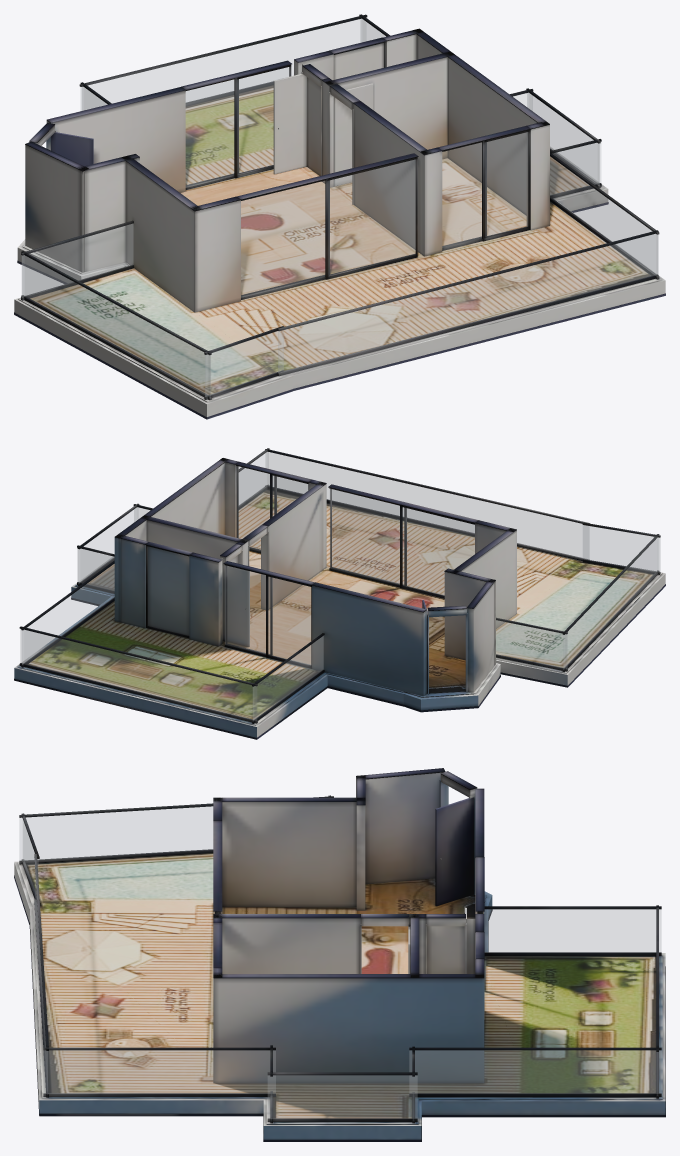
3 renders of one model, top to bottom at view 1: azimuth 30°, elevation 25°; view 2: azimuth 150°, elevation 25°; view 3: azimuth 270°, elevation 25°, orthographic. The views are drawn at different scales.
Parts seen in each view (by area): view 1: plan, glass0_m, railg10_m, glass2_m, glass1_m, railg0_m, railg9_m, railg7_m, railg5_m, railg8_m, railg3_m, railg2_m; view 2: plan, glass0_m, railg10_m, railg0_m, glass2_m, glass3_m, railg9_m, railg4_m, glass1_m, railg8_m, railg7_m, railg6_m (+3 smaller); view 3: plan, railg4_m, railg5_m, railg9_m, railg6_m, railg3_m.
Part boxes in pixels (x1,y1,x2,y2): plan: (14, 14, 665, 419); glass0_m: (241, 160, 415, 296); railg10_m: (278, 234, 657, 372); glass2_m: (186, 67, 288, 186); glass1_m: (442, 132, 527, 247); railg0_m: (80, 19, 365, 110); railg9_m: (22, 255, 210, 397); railg7_m: (22, 224, 133, 296); railg5_m: (550, 157, 658, 275); railg8_m: (205, 330, 283, 396); railg3_m: (527, 93, 599, 185); railg2_m: (550, 143, 600, 195); plan: (14, 448, 665, 739); glass0_m: (330, 489, 474, 595); railg10_m: (266, 452, 588, 559); railg0_m: (20, 629, 256, 720); glass2_m: (225, 565, 310, 664); glass3_m: (148, 547, 188, 634); railg9_m: (563, 538, 657, 669); railg4_m: (22, 564, 114, 664); glass1_m: (237, 466, 307, 550); railg8_m: (583, 525, 660, 571); railg7_m: (496, 620, 567, 668); railg6_m: (253, 636, 323, 720); plan: (14, 768, 665, 1141); railg4_m: (409, 1050, 661, 1093); railg5_m: (43, 1050, 275, 1093); railg9_m: (19, 806, 212, 860); railg6_m: (484, 909, 661, 952); railg3_m: (268, 1075, 417, 1118).
Size of the model in its own units: 13.01 by 2.62 by 12.66.
Materials: 2 (1 with a texture image).
